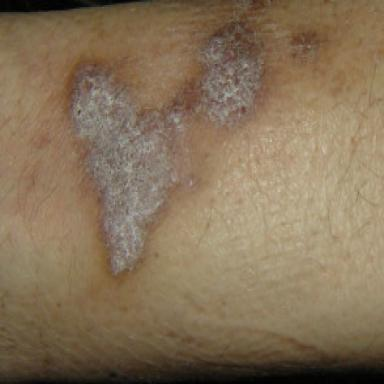eczema: (67, 0, 275, 273), (293, 33, 320, 63)
